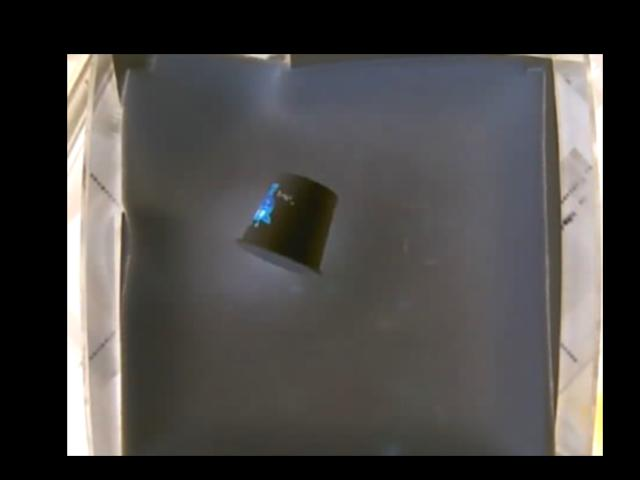Cup: (238, 172, 335, 271)
